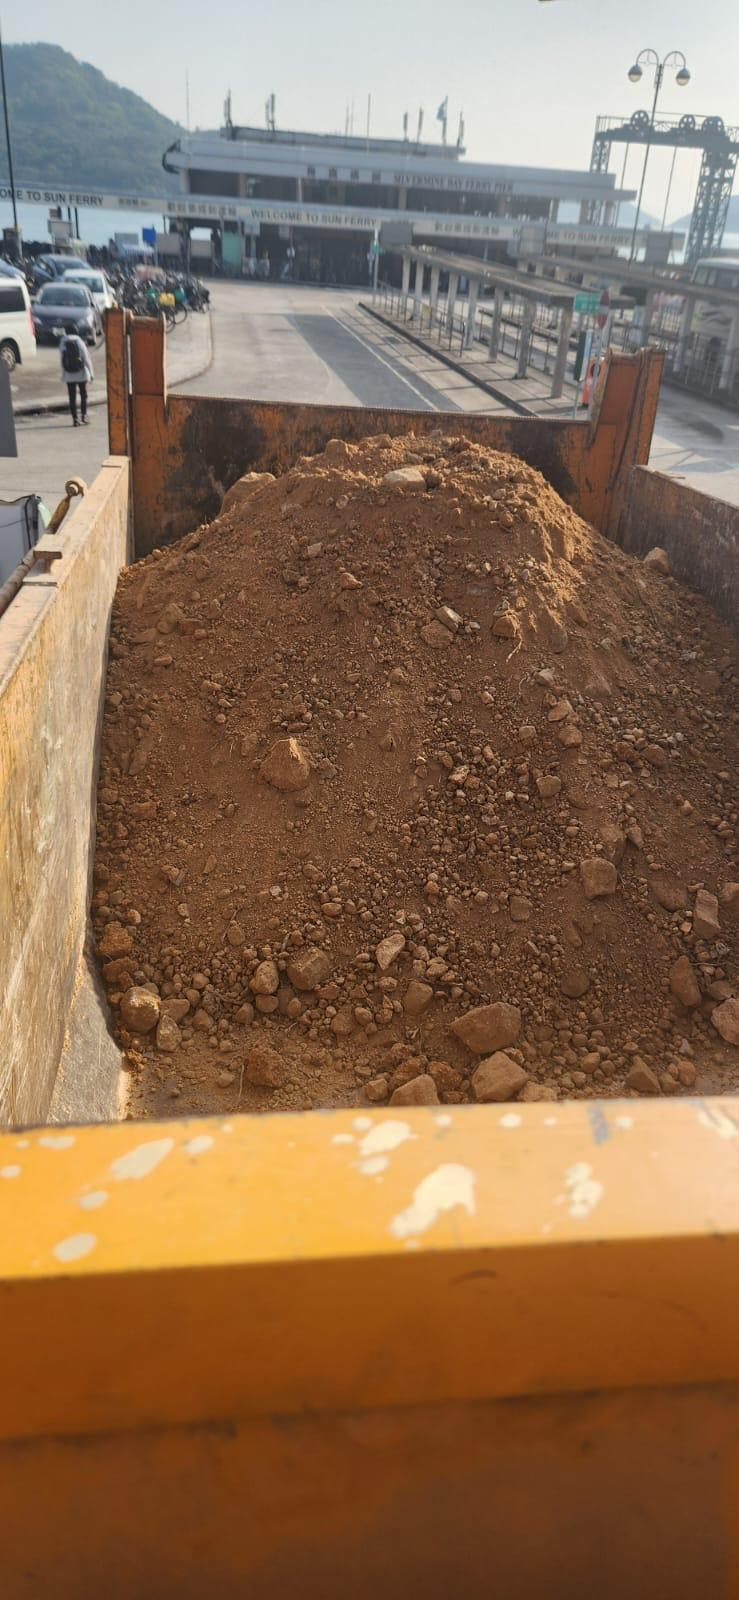dry: (85, 428, 739, 1100)
